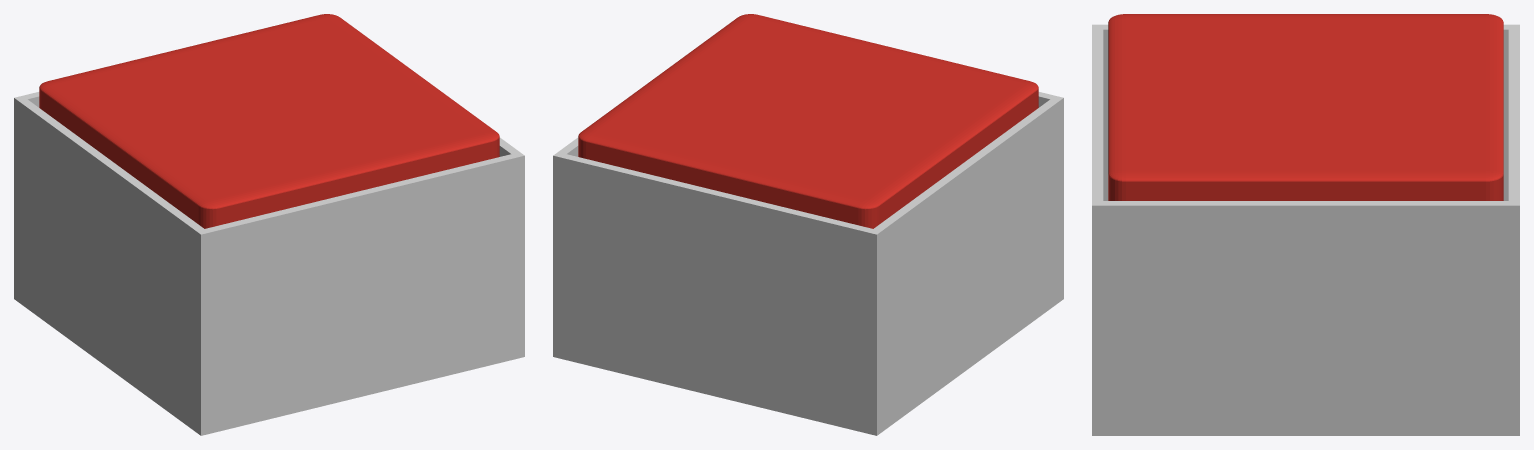
Rendered from button.fbx.
The picture shows the model from 3 angles, left to right: view 1: azimuth 30°, elevation 25°; view 2: azimuth 150°, elevation 25°; view 3: azimuth 270°, elevation 25°; orthographic projection. The views are drawn at different scales.
Visible parts, largest first — view 1: Cube.001, Cube; view 2: Cube.001, Cube; view 3: Cube.001, Cube.
Boxes of the visible parts, x1=… form: Cube.001: x1=14, y1=92, x2=524, y2=435; Cube: x1=39, y1=14, x2=499, y2=228; Cube.001: x1=553, y1=92, x2=1063, y2=435; Cube: x1=578, y1=14, x2=1038, y2=228; Cube.001: x1=1092, y1=24, x2=1519, y2=435; Cube: x1=1108, y1=14, x2=1503, y2=200.
Size of the model in its own units: 94.57 by 61.16 by 94.57.
